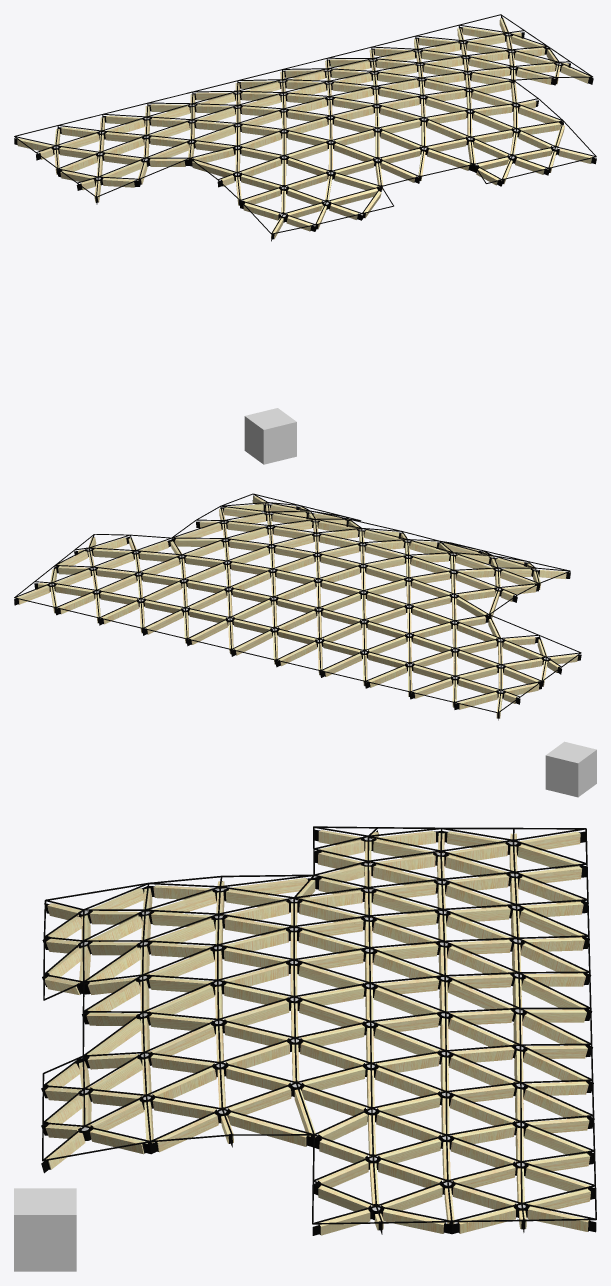
3 views of the same model, one above another, from view 1: azimuth 30°, elevation 25°; view 2: azimuth 150°, elevation 25°; view 3: azimuth 270°, elevation 25° (orthographic). The views are drawn at different scales.
Visible parts, largest first — view 1: Blend, Cube; view 2: Blend, Cube; view 3: Blend, Cube.
Part boxes in pixels (x1,y1,x2,y2): Blend: [14, 14, 596, 241]; Cube: [244, 408, 296, 464]; Blend: [14, 493, 581, 720]; Cube: [545, 741, 596, 797]; Blend: [41, 826, 596, 1235]; Cube: [14, 1188, 76, 1271].
Bounding box in the file's own units: 29.96 × 14.36 × 18.6.
Materials: 6 (2 with a texture image).
